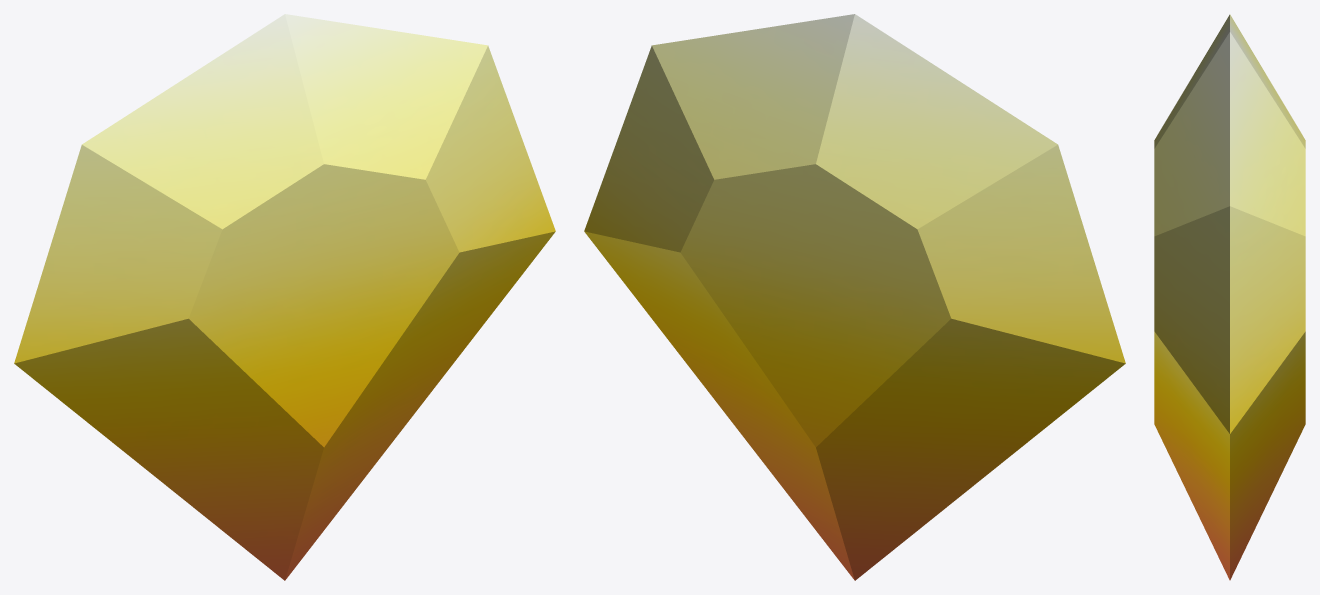
Rendered from gem6.fbx.
3 renders of one model, left to right at view 1: azimuth 30°, elevation 25°; view 2: azimuth 150°, elevation 25°; view 3: azimuth 270°, elevation 25°, orthographic. The views are drawn at different scales.
Parts seen in each view (by area): view 1: Gem6; view 2: Gem6; view 3: Gem6.
Part boxes in pixels (<box>): Gem6: <box>14,14,555,580</box>; Gem6: <box>584,14,1125,580</box>; Gem6: <box>1154,14,1305,580</box>.
Size of the model in its own units: 1 by 1 by 0.25.
